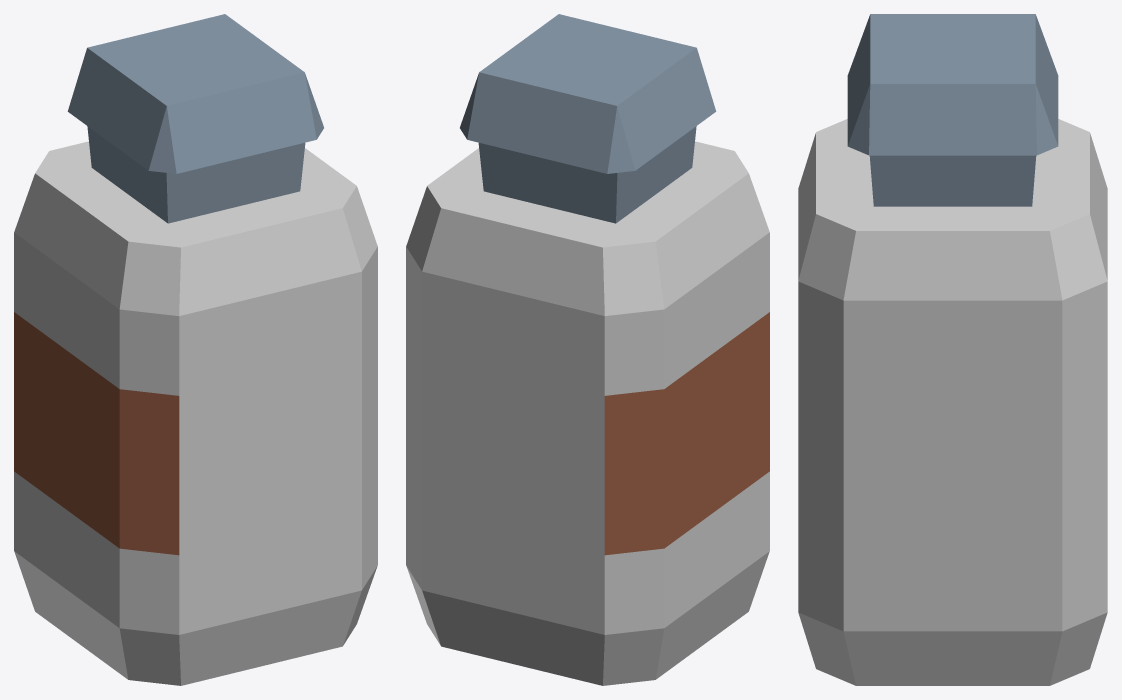
The model's file is shakerPepper.obj.
3 renders of one model, left to right at view 1: azimuth 30°, elevation 25°; view 2: azimuth 150°, elevation 25°; view 3: azimuth 270°, elevation 25°, orthographic. The views are drawn at different scales.
Parts seen in each view (by area): view 1: shakerPepper; view 2: shakerPepper; view 3: shakerPepper.
Part boxes in pixels (left/top/right/bottom): shakerPepper: left=14, top=14, right=377, bottom=685; shakerPepper: left=406, top=14, right=769, bottom=685; shakerPepper: left=798, top=14, right=1107, bottom=685.
Bounding box in the file's own units: 0.0949 × 0.196 × 0.0949.
